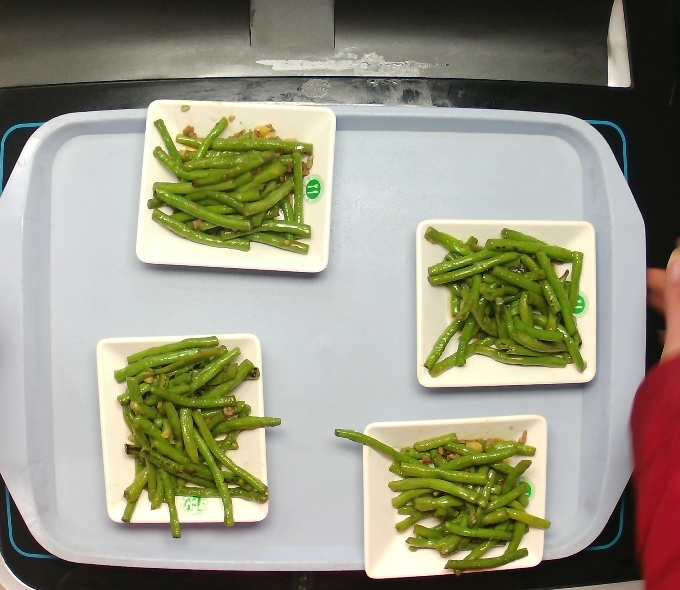wcq-RouMoJiangDou: (109, 331, 285, 553), (354, 414, 558, 589), (140, 101, 318, 271), (419, 224, 589, 391)
